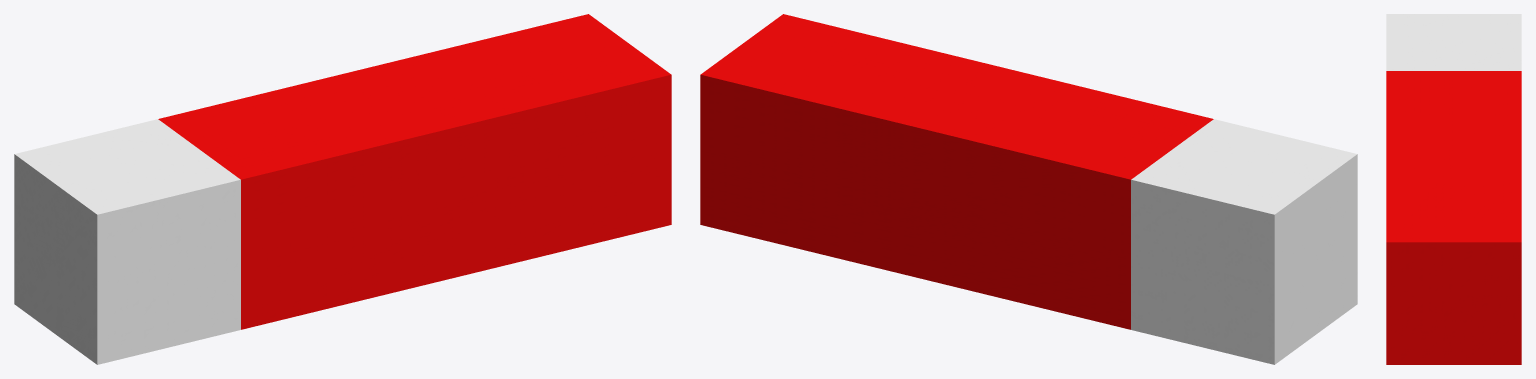
File: 1axis_x.obj
3 views of the same model, side by side, from view 1: azimuth 30°, elevation 25°; view 2: azimuth 150°, elevation 25°; view 3: azimuth 270°, elevation 25° (orthographic). The views are drawn at different scales.
Bounding box in the file's own units: 120 × 30 × 30.
Materials: 1 (1 with a texture image).
